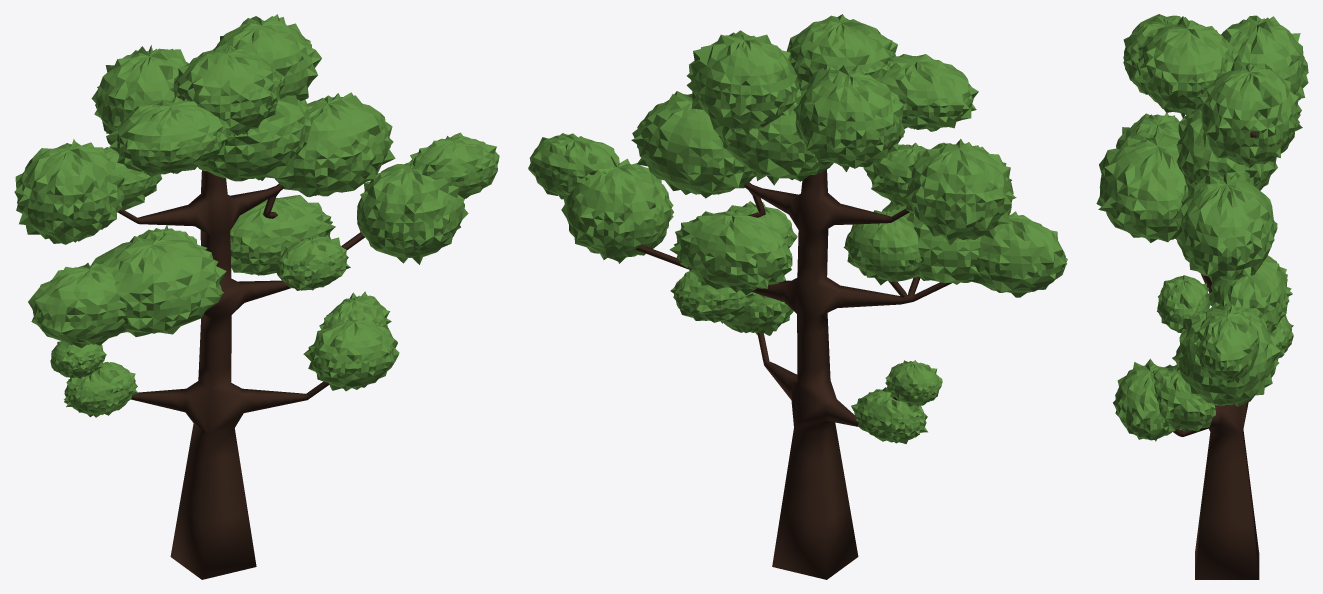
Rendered from drzewo3.obj.
The picture shows the model from 3 angles, left to right: view 1: azimuth 30°, elevation 25°; view 2: azimuth 150°, elevation 25°; view 3: azimuth 270°, elevation 25°; orthographic projection.
Parts seen in each view (by area): view 1: Cube, liscie.005, liscie.011, liscie.001, liscie.009, liscie.008, liscie.010, liscie.006, liscie.015, liscie.016, liscie.003, liscie.014 (+7 smaller); view 2: Cube, liscie.014, liscie.011, liscie.007, liscie.001, liscie.009, liscie.016, liscie.006, liscie.008, liscie.010, liscie.015, liscie.019 (+8 smaller); view 3: Cube, liscie.009, liscie.007, liscie.005, liscie.010, liscie.001, liscie.014, liscie.002, liscie.015, liscie.016, liscie.003, liscie.013 (+4 smaller).
Boxes of the visible parts, x1=… form: Cube: x1=117, y1=170, x2=364, y2=579; liscie.005: x1=91, y1=232, x2=226, y2=336; liscie.011: x1=14, y1=139, x2=124, y2=244; liscie.001: x1=357, y1=158, x2=468, y2=264; liscie.009: x1=275, y1=92, x2=395, y2=197; liscie.008: x1=106, y1=97, x2=228, y2=176; liscie.010: x1=173, y1=45, x2=284, y2=135; liscie.006: x1=28, y1=263, x2=127, y2=348; liscie.015: x1=197, y1=95, x2=311, y2=181; liscie.016: x1=230, y1=195, x2=335, y2=275; liscie.003: x1=303, y1=320, x2=399, y2=391; liscie.014: x1=91, y1=45, x2=188, y2=133; Cube: x1=635, y1=169, x2=951, y2=579; liscie.014: x1=793, y1=64, x2=904, y2=171; liscie.011: x1=905, y1=139, x2=1016, y2=245; liscie.007: x1=686, y1=30, x2=799, y2=134; liscie.001: x1=561, y1=156, x2=673, y2=263; liscie.009: x1=631, y1=91, x2=756, y2=198; liscie.016: x1=669, y1=209, x2=792, y2=295; liscie.006: x1=968, y1=211, x2=1067, y2=297; liscie.008: x1=880, y1=54, x2=978, y2=131; liscie.010: x1=786, y1=14, x2=897, y2=90; liscie.015: x1=710, y1=89, x2=833, y2=185; liscie.019: x1=843, y1=209, x2=921, y2=285; Cube: x1=1173, y1=132, x2=1259, y2=579; liscie.009: x1=1173, y1=172, x2=1277, y2=282; liscie.007: x1=1199, y1=61, x2=1302, y2=168; liscie.005: x1=1096, y1=131, x2=1186, y2=242; liscie.010: x1=1134, y1=16, x2=1238, y2=118; liscie.001: x1=1172, y1=302, x2=1280, y2=406; liscie.014: x1=1221, y1=15, x2=1308, y2=100; liscie.002: x1=1194, y1=305, x2=1259, y2=383; liscie.015: x1=1176, y1=109, x2=1277, y2=195; liscie.016: x1=1208, y1=255, x2=1292, y2=333; liscie.003: x1=1113, y1=358, x2=1175, y2=441; liscie.013: x1=1153, y1=364, x2=1217, y2=431.
Size of the model in its own units: 3.88 by 3.94 by 1.4.
